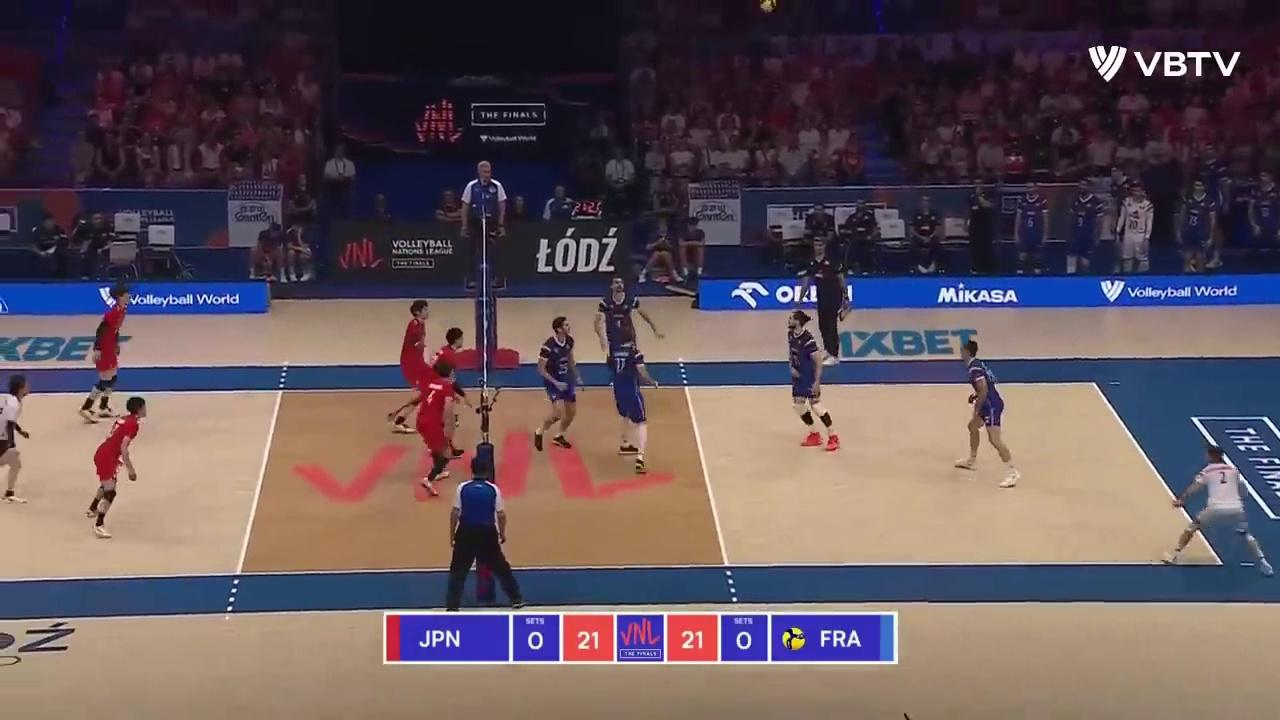ball: (759, 0, 776, 12)
